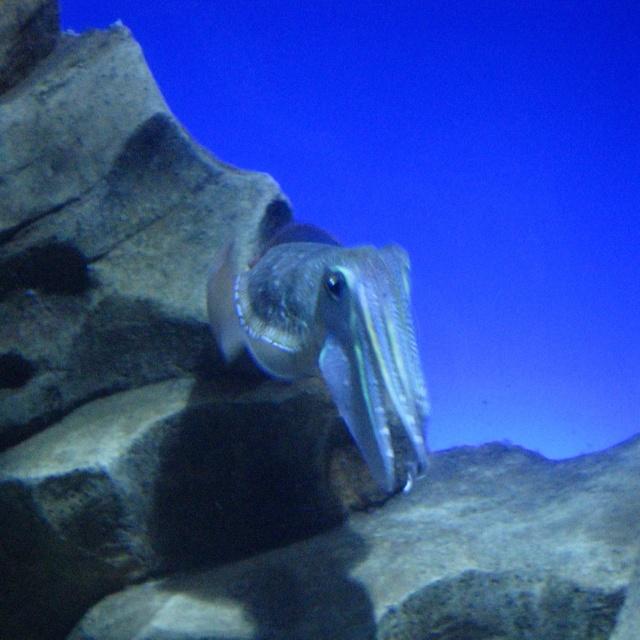Fish: (207, 224, 433, 496)
